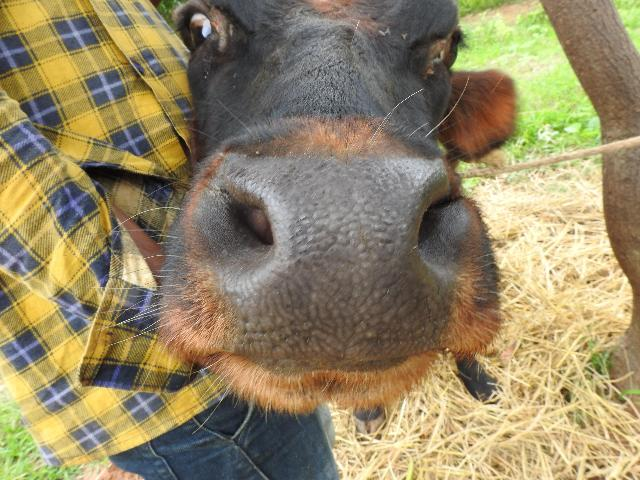Muzzle: (239, 162, 439, 346)
